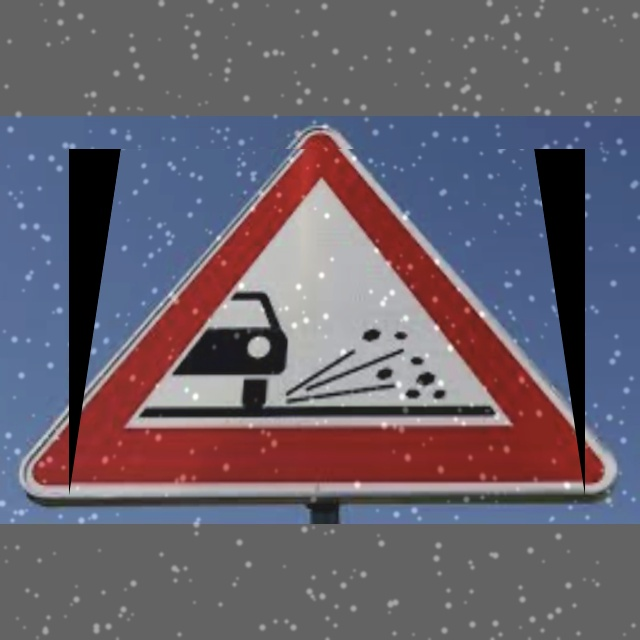Loose_Gravel: (69, 149, 585, 496)
